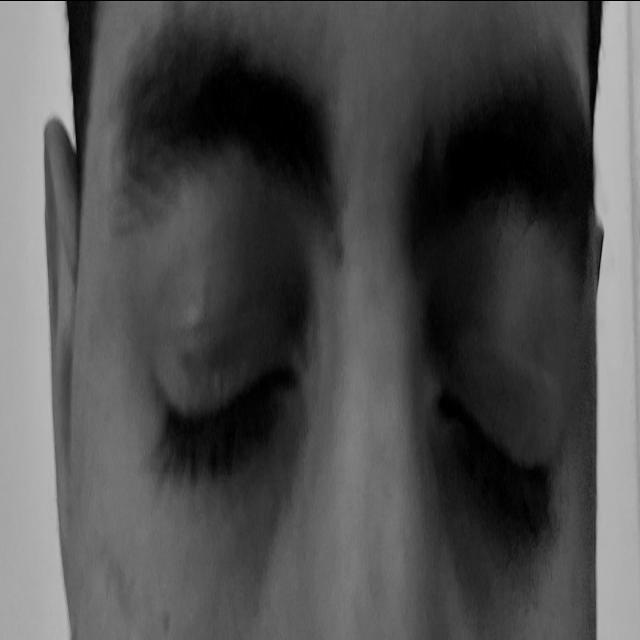real: (118, 100, 589, 604)
